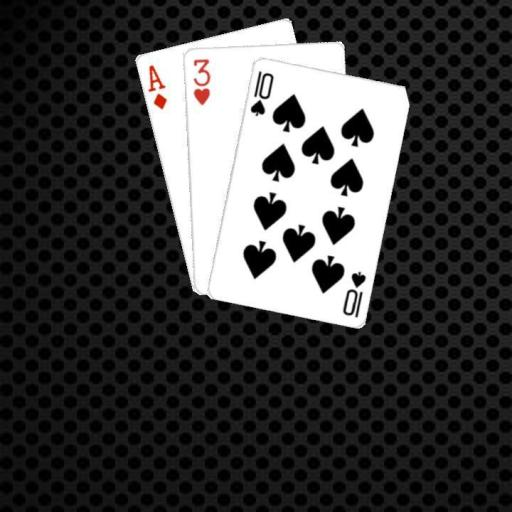card-corner: (339, 268, 368, 318), (247, 67, 275, 117), (144, 61, 168, 111), (190, 56, 211, 106)
